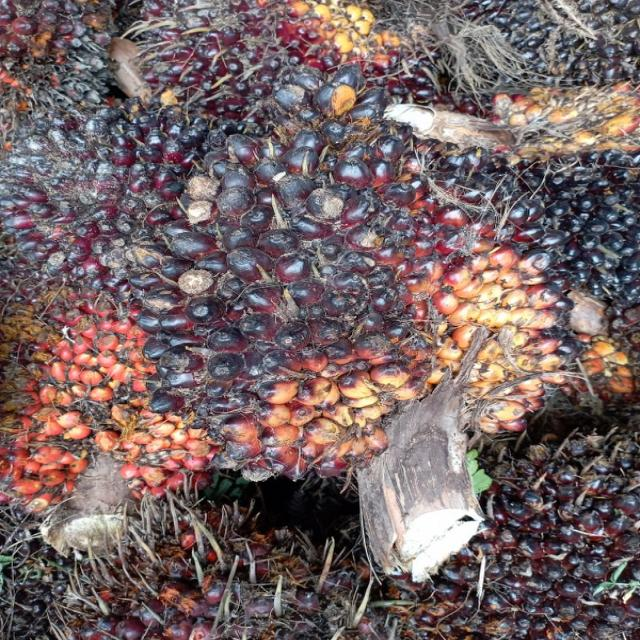fraksi 00: (143, 117, 542, 444)
fraksi 1: (0, 95, 203, 265)
fraksi 4: (5, 295, 208, 526)
